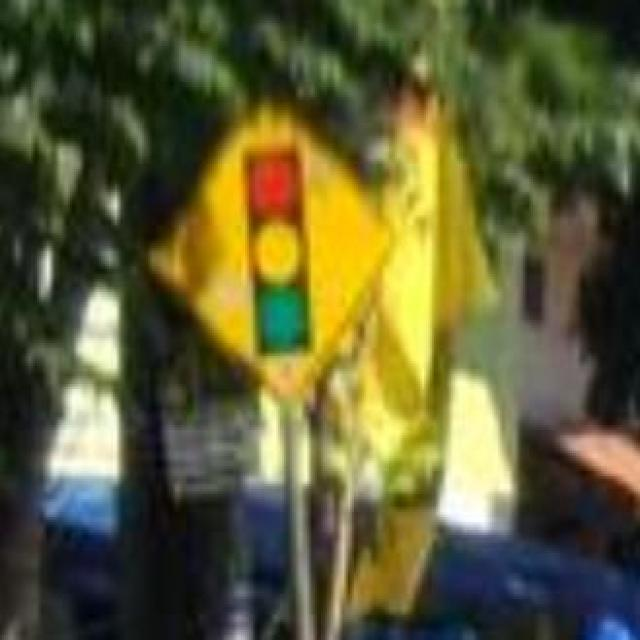traffic_light: (158, 102, 384, 392)
